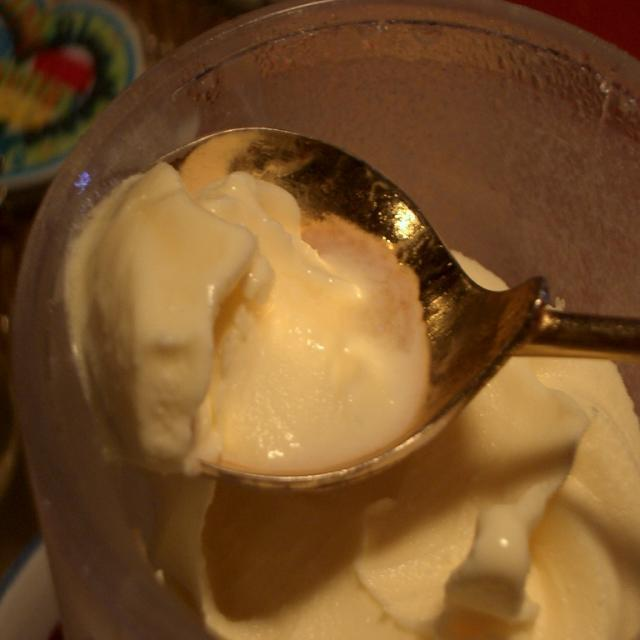Ice cream: (161, 241, 640, 640), (62, 154, 422, 478)
